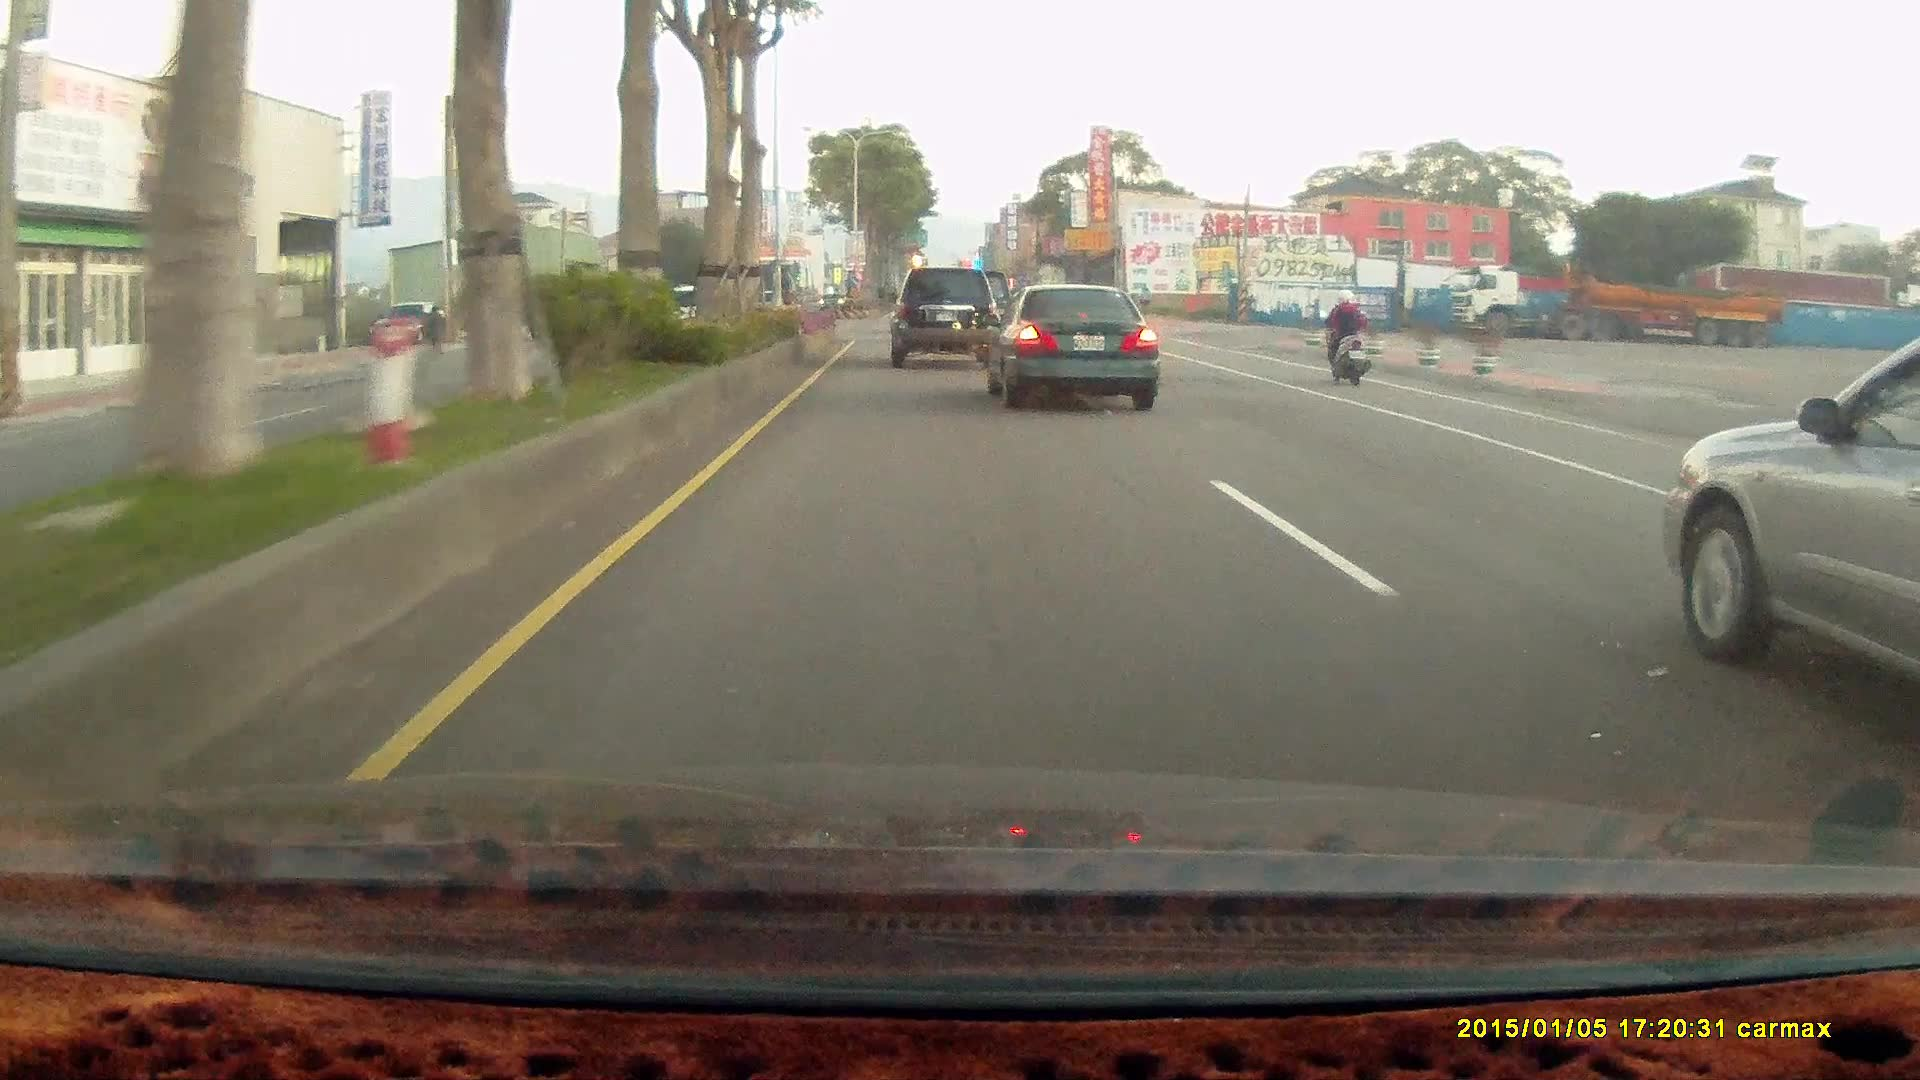pedestrian: (426, 301, 447, 354)
rider: (1313, 283, 1379, 391), (1316, 287, 1371, 384)
vehicle: (1659, 324, 1920, 712), (1442, 266, 1781, 348), (983, 282, 1161, 412), (983, 285, 1156, 407), (886, 263, 1000, 366), (885, 265, 999, 366), (370, 298, 445, 350), (369, 298, 443, 348)
